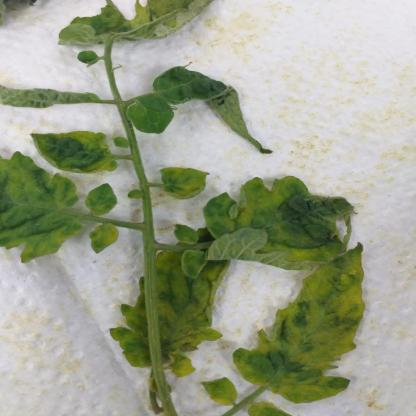T_L_H: (128, 94, 175, 134)
T_L_R: (234, 246, 365, 404), (204, 177, 354, 263), (157, 253, 230, 378), (1, 153, 83, 263), (32, 132, 120, 174), (111, 281, 151, 368), (153, 67, 228, 105), (161, 168, 210, 200)
T_S_R: (145, 268, 179, 416), (126, 125, 157, 262)
